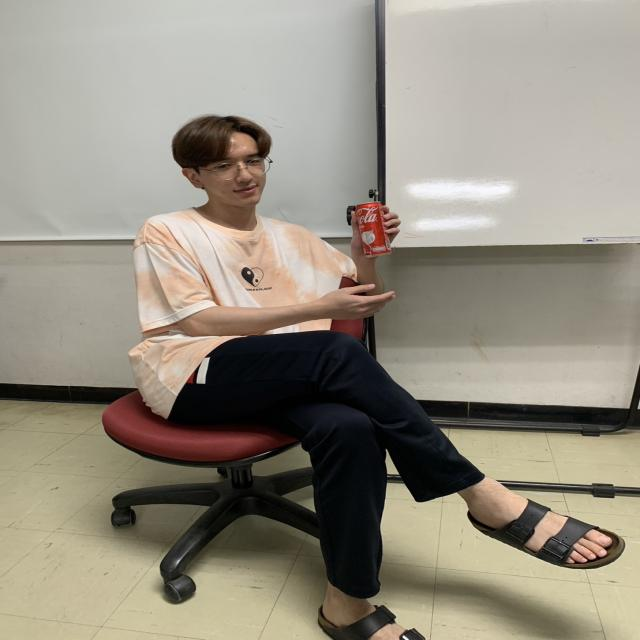can: (354, 201, 394, 258)
